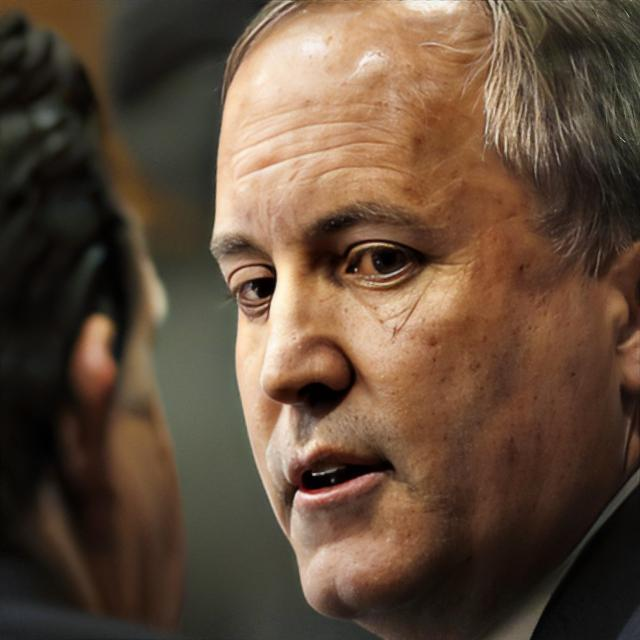anger: (212, 66, 611, 618)
